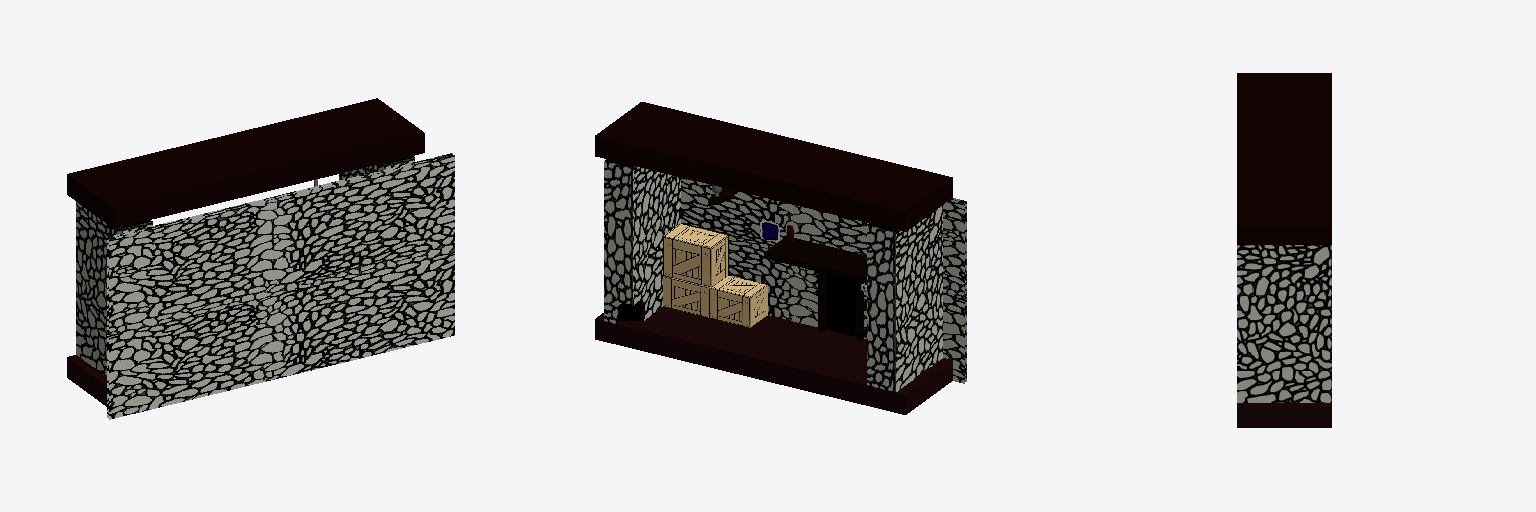
3 views of the same model, side by side, from view 1: azimuth 30°, elevation 25°; view 2: azimuth 150°, elevation 25°; view 3: azimuth 270°, elevation 25° (orthographic).
Parts seen in each view (by area): view 1: StoneBackgrund.000_Plane.006, Ceiling.000_Cube.814, Wall.001_Cube.775, Floor.000_Cube.772, StoneBackgrund.001_Plane.007; view 2: Ceiling.000_Cube.814, Floor.000_Cube.772, StoneBackgrund.001_Plane.007, Wall.001_Cube.775, Wall.000_Cube.774, Box.002_Cube.779, Holder.000_Cube.784, Box.000_Cube.777, Plane.001_Plane.005, Box.001_Cube.778, Exit.000_Cube; view 3: Ceiling.000_Cube.814, Wall.000_Cube.774, Floor.000_Cube.772.
Boxes of the visible parts, box(x1,y1,x2,y2) form: StoneBackgrund.000_Plane.006: box(109, 155, 454, 419); Ceiling.000_Cube.814: box(67, 98, 424, 228); Wall.001_Cube.775: box(76, 202, 152, 376); Floor.000_Cube.772: box(67, 355, 106, 406); StoneBackgrund.001_Plane.007: box(107, 153, 452, 417); Ceiling.000_Cube.814: box(595, 102, 952, 231); Floor.000_Cube.772: box(595, 307, 952, 414); StoneBackgrund.001_Plane.007: box(681, 178, 964, 383); Wall.001_Cube.775: box(867, 205, 942, 391); Wall.000_Cube.774: box(604, 159, 680, 323); Box.002_Cube.779: box(663, 224, 728, 287); Holder.000_Cube.784: box(764, 236, 866, 283); Box.000_Cube.777: box(710, 276, 767, 327); Plane.001_Plane.005: box(827, 274, 854, 335); Box.001_Cube.778: box(663, 276, 710, 317); Exit.000_Cube: box(818, 272, 863, 340); Ceiling.000_Cube.814: box(1237, 73, 1331, 244); Wall.000_Cube.774: box(1237, 245, 1331, 402); Floor.000_Cube.772: box(1237, 403, 1331, 427).
Size of the model in its own units: 35.6 by 20.24 by 9.2.
14 materials, 3 textured.